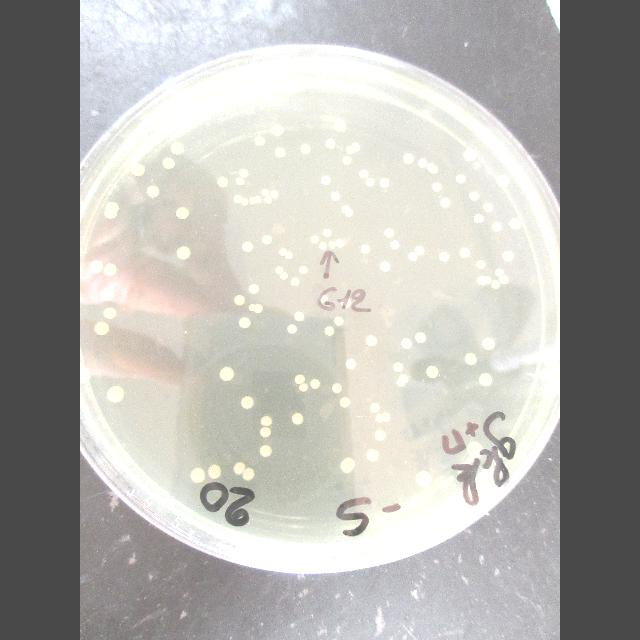colony: (106, 386, 124, 402), (416, 470, 431, 488), (104, 202, 119, 219), (94, 321, 110, 336), (340, 458, 355, 474), (468, 441, 482, 458), (176, 246, 191, 260), (220, 366, 234, 381), (190, 468, 205, 482), (90, 260, 104, 274), (208, 464, 221, 479), (426, 365, 439, 379), (396, 374, 409, 388), (479, 372, 492, 386), (80, 368, 91, 384), (146, 185, 159, 198), (171, 142, 184, 155), (242, 468, 255, 481), (241, 396, 254, 409), (291, 412, 304, 425), (341, 205, 354, 218), (496, 175, 509, 188), (465, 352, 478, 365), (100, 289, 114, 301), (131, 164, 145, 176), (260, 445, 272, 458), (366, 449, 379, 461), (482, 338, 495, 350), (234, 461, 245, 475), (544, 356, 555, 370), (104, 264, 116, 276), (426, 162, 438, 174), (464, 149, 476, 161), (509, 218, 521, 230), (162, 158, 175, 169), (176, 208, 189, 219), (271, 125, 284, 136), (365, 335, 378, 346), (104, 308, 116, 319), (260, 415, 272, 426), (331, 382, 342, 394), (239, 318, 251, 329), (242, 241, 254, 252), (334, 120, 346, 131), (415, 332, 426, 344), (540, 369, 551, 381), (375, 430, 386, 441), (345, 359, 356, 370), (370, 402, 380, 414), (502, 251, 514, 261), (478, 276, 491, 285), (260, 428, 271, 438), (295, 374, 305, 385), (234, 295, 245, 305), (218, 178, 229, 188), (254, 136, 265, 146), (261, 235, 272, 245), (294, 311, 305, 321), (300, 144, 311, 154), (380, 261, 390, 272), (401, 338, 411, 349), (340, 398, 350, 408), (310, 379, 320, 389), (249, 284, 259, 294), (239, 169, 249, 179), (275, 148, 285, 158), (288, 324, 298, 334), (325, 326, 335, 336), (334, 316, 344, 326), (325, 139, 335, 149), (330, 191, 340, 201), (380, 178, 390, 188), (404, 154, 414, 164), (408, 251, 418, 261), (432, 182, 442, 192), (440, 198, 450, 208), (439, 251, 449, 261), (460, 248, 470, 258), (469, 191, 479, 201), (474, 214, 484, 224), (499, 275, 509, 285), (394, 362, 404, 372), (381, 412, 390, 422), (299, 382, 308, 392), (321, 176, 331, 185), (351, 142, 360, 152), (359, 170, 369, 179), (384, 229, 394, 238), (390, 240, 399, 250), (415, 246, 425, 255), (418, 159, 428, 168), (491, 222, 501, 231), (270, 190, 279, 199), (342, 156, 351, 165), (361, 245, 370, 254), (456, 175, 465, 184), (476, 260, 485, 269), (491, 280, 500, 289), (234, 195, 242, 204), (275, 266, 284, 274), (291, 278, 300, 286), (299, 266, 308, 274), (279, 248, 288, 256), (311, 235, 319, 244), (336, 239, 344, 248), (366, 178, 375, 186), (241, 198, 249, 206), (264, 196, 272, 204), (280, 272, 288, 280), (346, 146, 354, 154), (484, 204, 492, 212), (236, 178, 245, 185), (261, 189, 270, 196), (285, 251, 292, 260), (324, 229, 331, 238), (495, 269, 504, 276), (319, 242, 326, 250), (329, 241, 336, 249), (249, 198, 256, 205), (376, 414, 382, 422), (255, 196, 261, 204)
